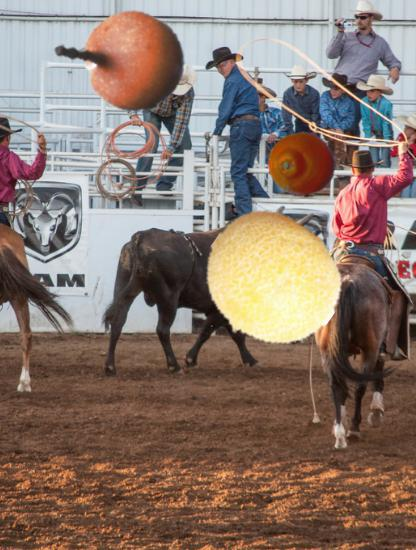Cantaloupe: (202, 211, 342, 351)
Granadilla: (59, 1, 186, 128)
Tangelo: (268, 131, 337, 200)
